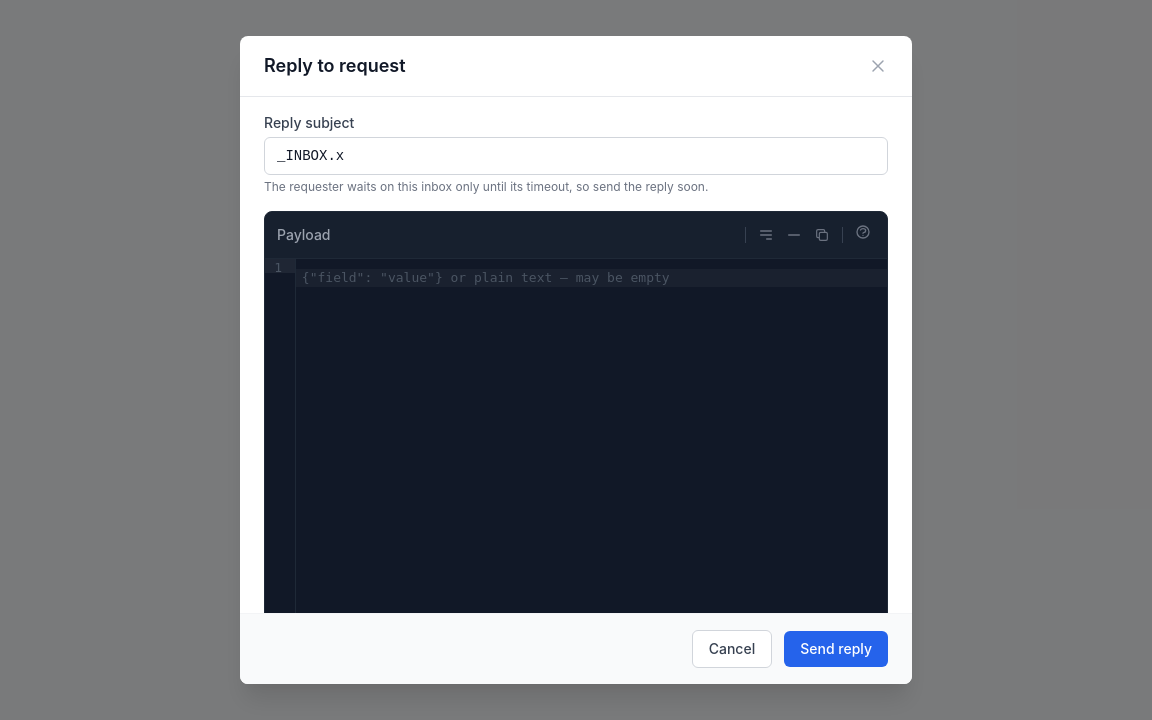
Test: CorePublishDialog › keeps the reply subject fixed and shows a failure inline
What coordinates should you click on to do the following:
click the button "Send reply"
I would click on:
 (836, 649)
Its box is x1=784 y1=631 x2=888 y2=667.
(page scrolled)
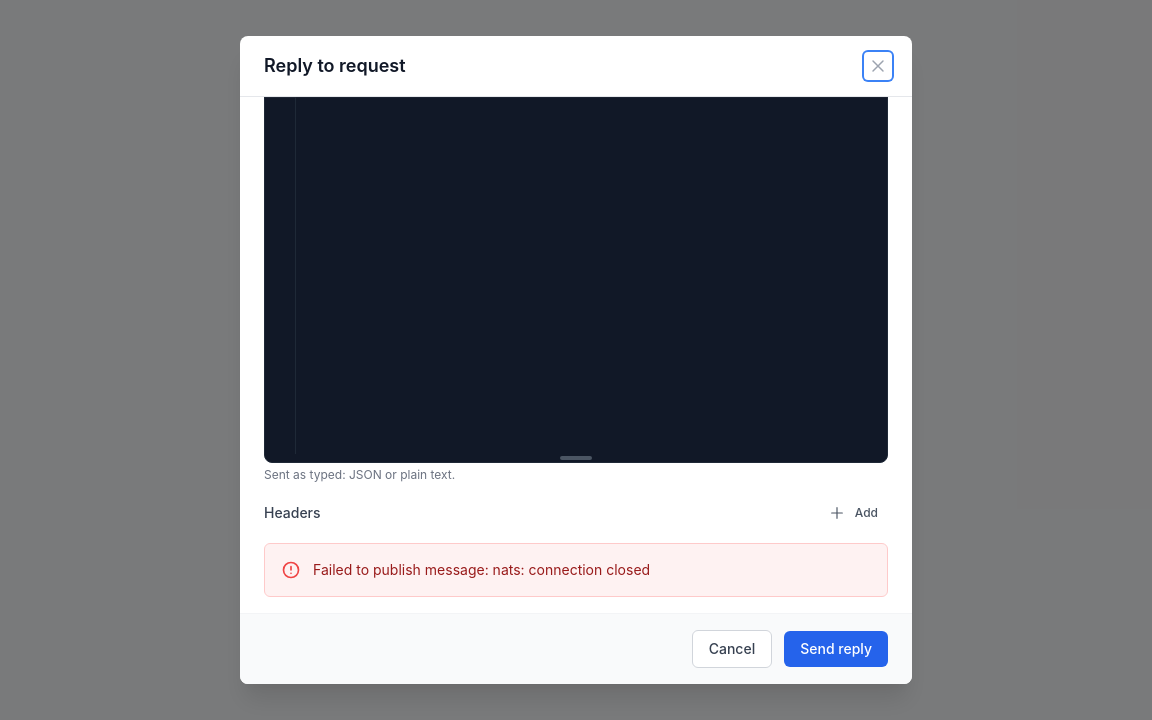
Check: the text "Failed to publish message: nats: connection closed" is shown, box x1=313 y1=561 x2=650 y2=578
